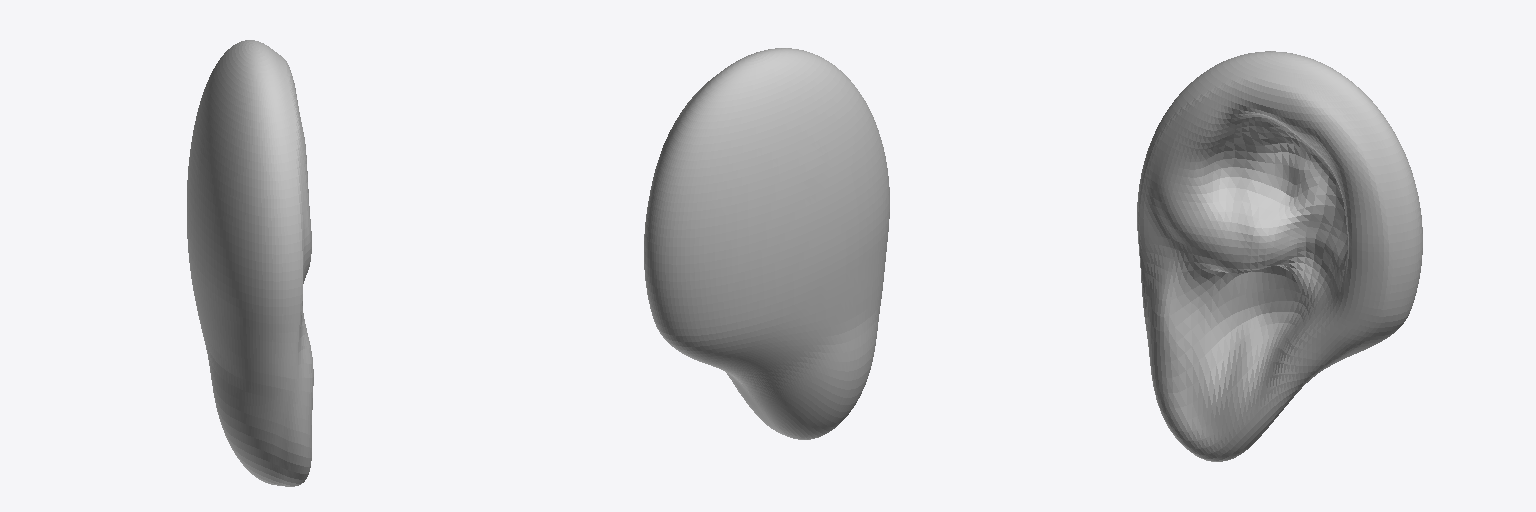
File: Sarge_OBJ.obj
3 views of the same model, side by side, from view 1: azimuth 30°, elevation 25°; view 2: azimuth 150°, elevation 25°; view 3: azimuth 270°, elevation 25° (orthographic).
Visible parts, largest first — view 1: Group25379; view 2: Group25379; view 3: Group25379.
Boxes of the visible parts, x1,y1,x2,y2 form: Group25379: [187, 40, 313, 486]; Group25379: [644, 48, 889, 439]; Group25379: [1137, 51, 1422, 461].
Bounding box in the file's own units: 0.2407 × 0.6733 × 0.4301.